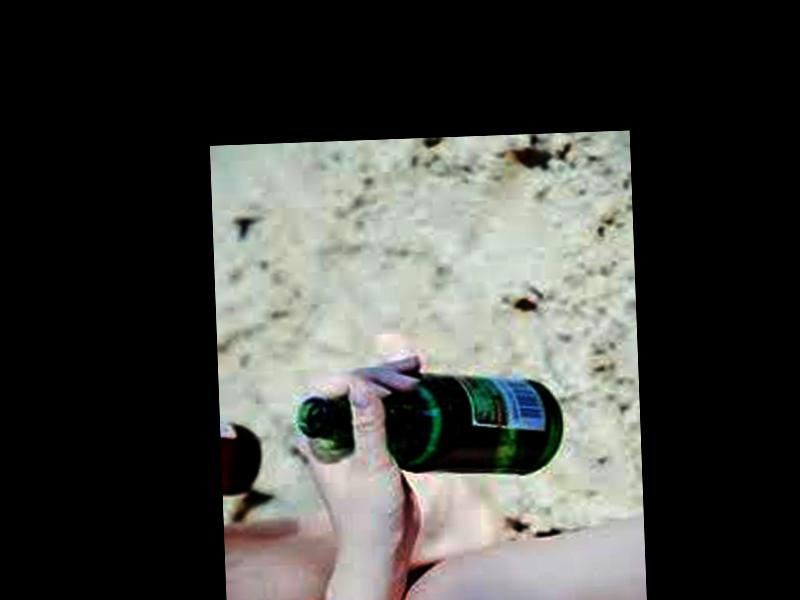Beer: (294, 370, 564, 484)
